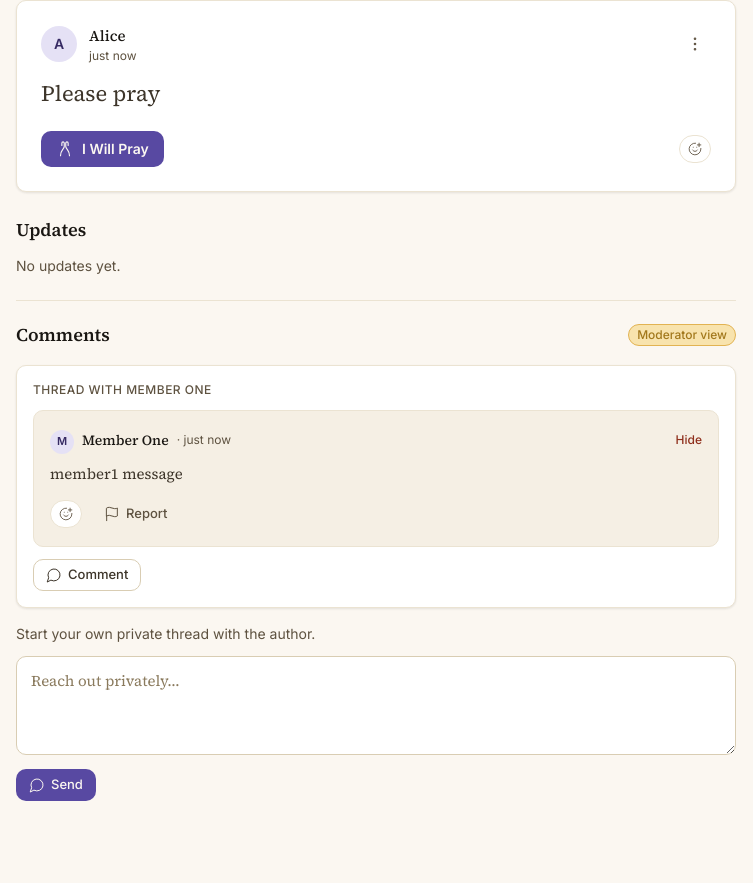
Test: PostDetailPage › moderator sees a Comment button in every thread and a post-level new-thread composer
Check: the text "member1 message" is shown, box [50,462,183,484]
Check: the button "reply" is not shown
Click the button "Comment" at (87, 575), box [33,559,141,591]
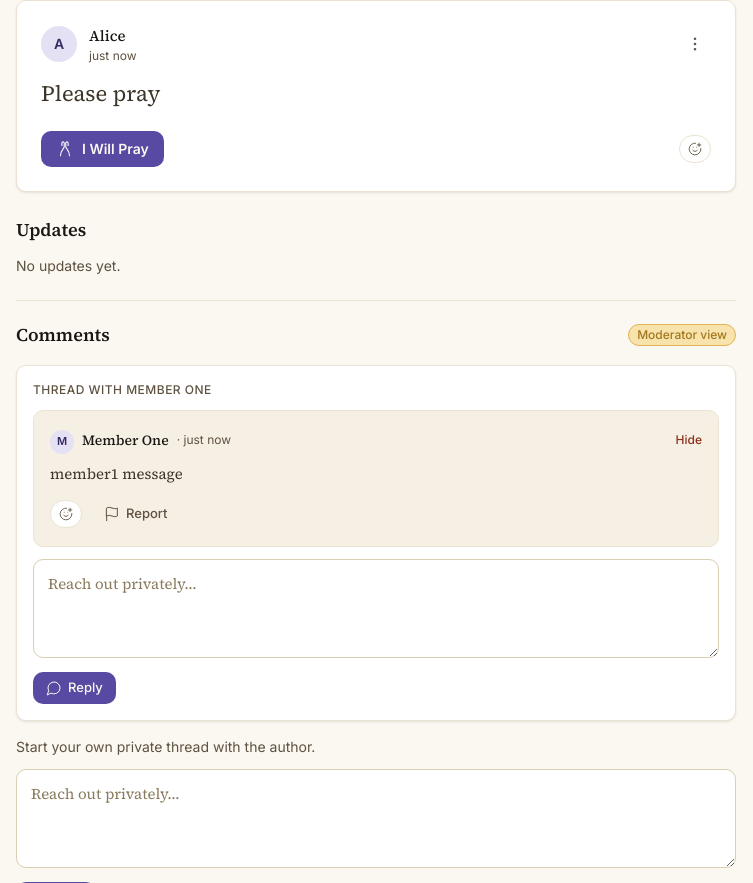
Check: the text box named "your comment" is shown, box [16,769,736,868]
Check: the button "Reply" is shown, box [33,672,116,704]
